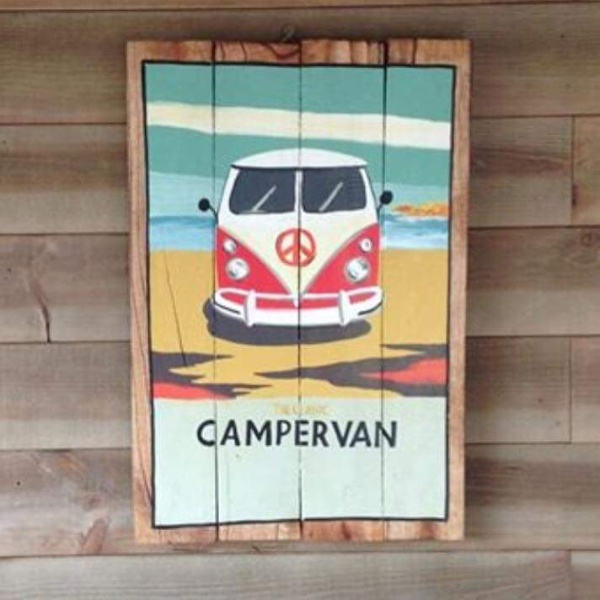text: (209, 418, 224, 449), (225, 418, 240, 449), (241, 418, 256, 449), (257, 418, 272, 449), (273, 418, 288, 449), (289, 418, 304, 449), (305, 418, 320, 449), (321, 418, 336, 449), (337, 418, 352, 449), (353, 418, 368, 449), (369, 418, 384, 449), (385, 418, 398, 449), (198, 418, 208, 449)
